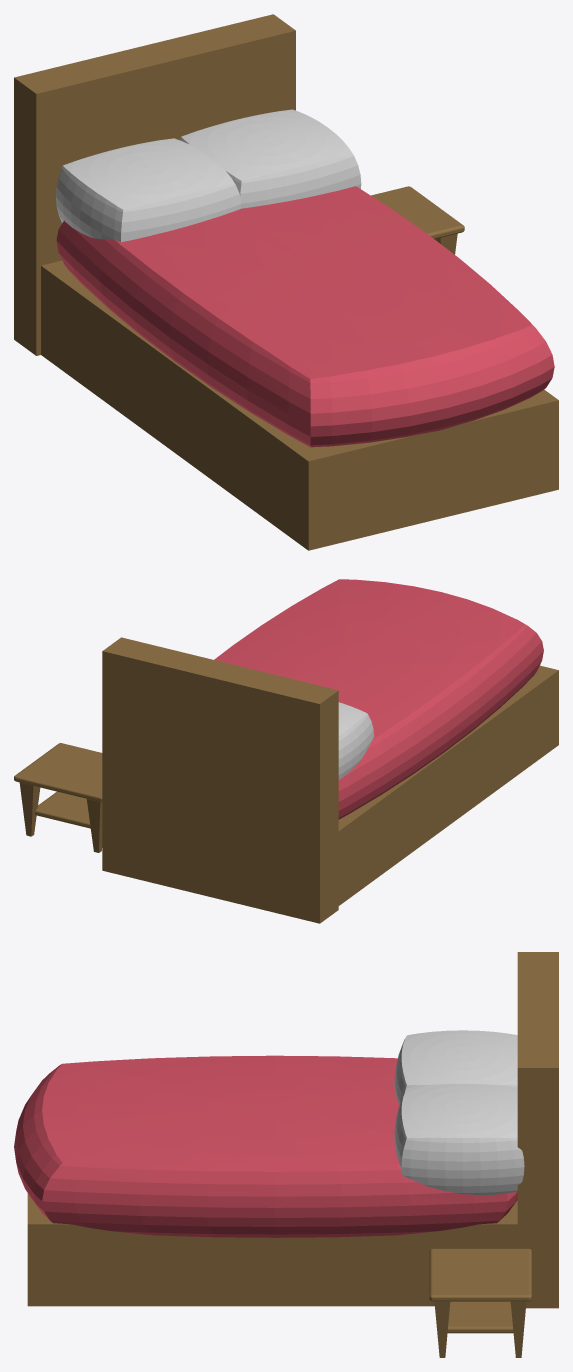
File: Incredible Lahdi.glb
3 renders of one model, top to bottom at view 1: azimuth 30°, elevation 25°; view 2: azimuth 150°, elevation 25°; view 3: azimuth 270°, elevation 25°, orthographic. The views are drawn at different scales.
Visible parts, largest first — view 1: Mesh_Mesh_head_geo.001_lambert2SG.001; view 2: Mesh_Mesh_head_geo.001_lambert2SG.001; view 3: Mesh_Mesh_head_geo.001_lambert2SG.001.
Part boxes in pixels (left/top/right/bottom): Mesh_Mesh_head_geo.001_lambert2SG.001: left=14, top=14, right=558, bottom=550; Mesh_Mesh_head_geo.001_lambert2SG.001: left=14, top=579, right=558, bottom=923; Mesh_Mesh_head_geo.001_lambert2SG.001: left=14, top=952, right=558, bottom=1357.
Size of the model in its own units: 0.067 by 0.044 by 0.0905.
